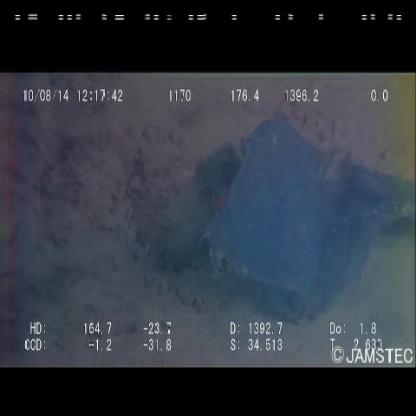Rác: (192, 108, 416, 330)
